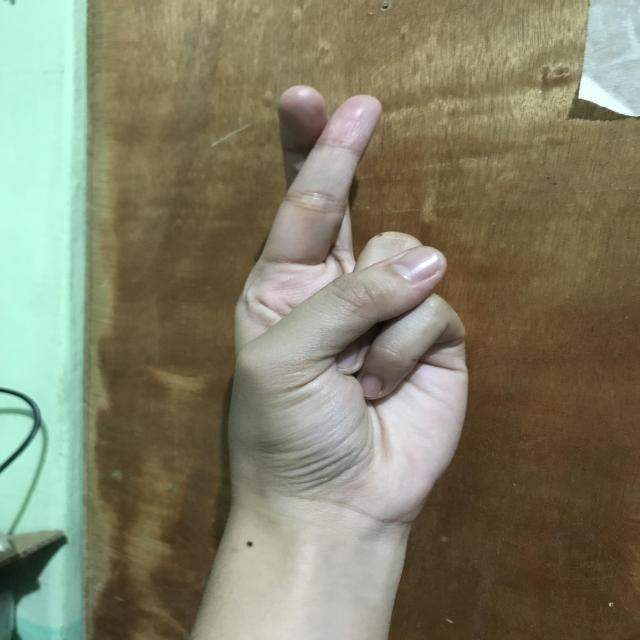R: (224, 82, 475, 522)
